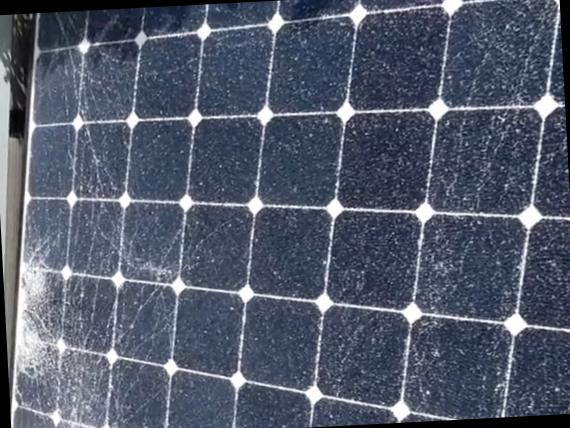Crack: (12, 240, 60, 316), (15, 312, 59, 382)
